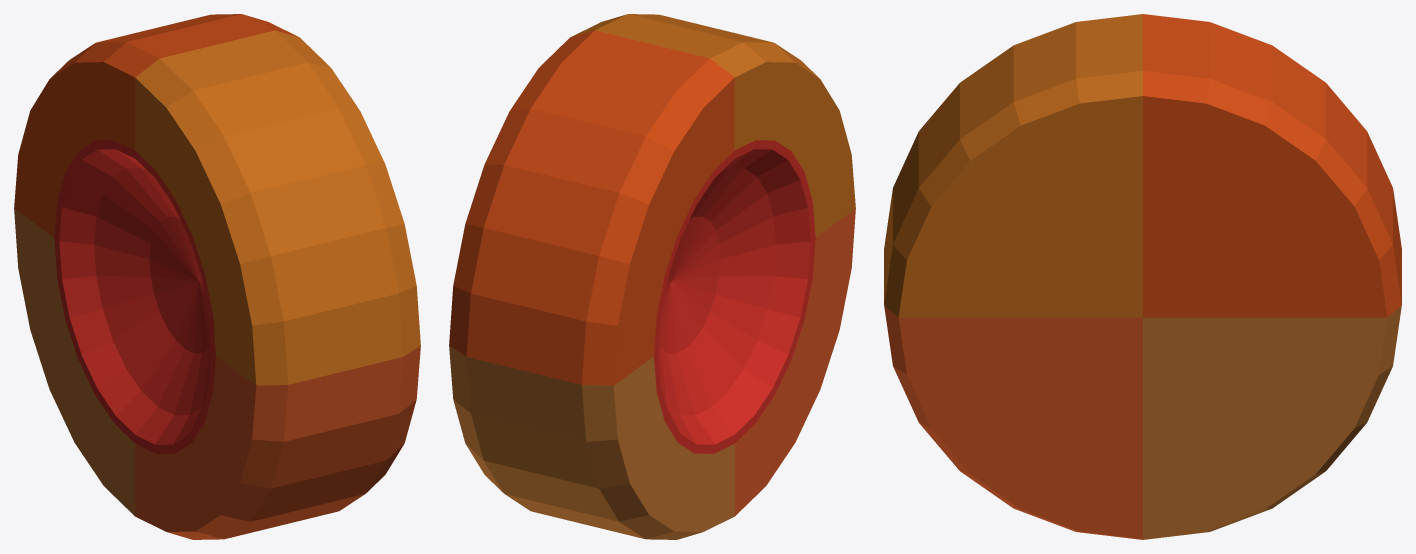
The model's file is WheelGeo.fbx.
The picture shows the model from 3 angles, left to right: view 1: azimuth 30°, elevation 25°; view 2: azimuth 150°, elevation 25°; view 3: azimuth 270°, elevation 25°; orthographic projection.
Visible parts, largest first — view 1: Wheel; view 2: Wheel; view 3: Wheel.
Boxes of the visible parts, x1,y1,x2,y2 form: Wheel: (14, 14, 420, 539); Wheel: (449, 14, 855, 539); Wheel: (884, 14, 1401, 539).
Bounding box in the file's own units: 0.2 × 0.54 × 0.54.
